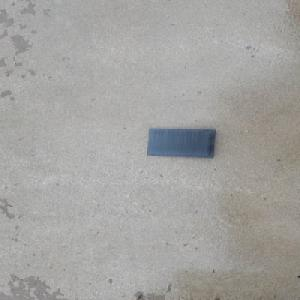PlasticPart: (146, 128, 217, 158)
